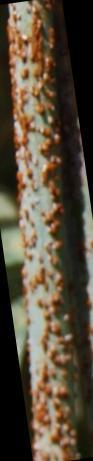Wheat: (8, 23, 80, 238), (24, 250, 78, 457)
